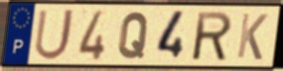4: (154, 8, 189, 64), (77, 8, 108, 62)
K: (235, 12, 270, 63)
Q: (116, 10, 151, 60)
R: (192, 10, 234, 63)
U: (32, 7, 77, 62)
